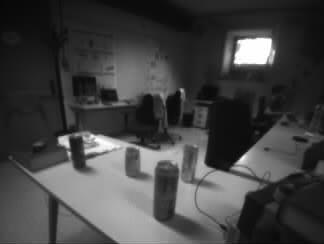Tin can: (155, 160, 176, 219), (181, 145, 198, 184), (125, 147, 142, 178), (71, 136, 84, 168)
